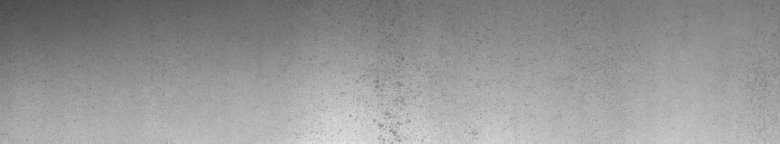ib: (373, 52, 416, 136)
